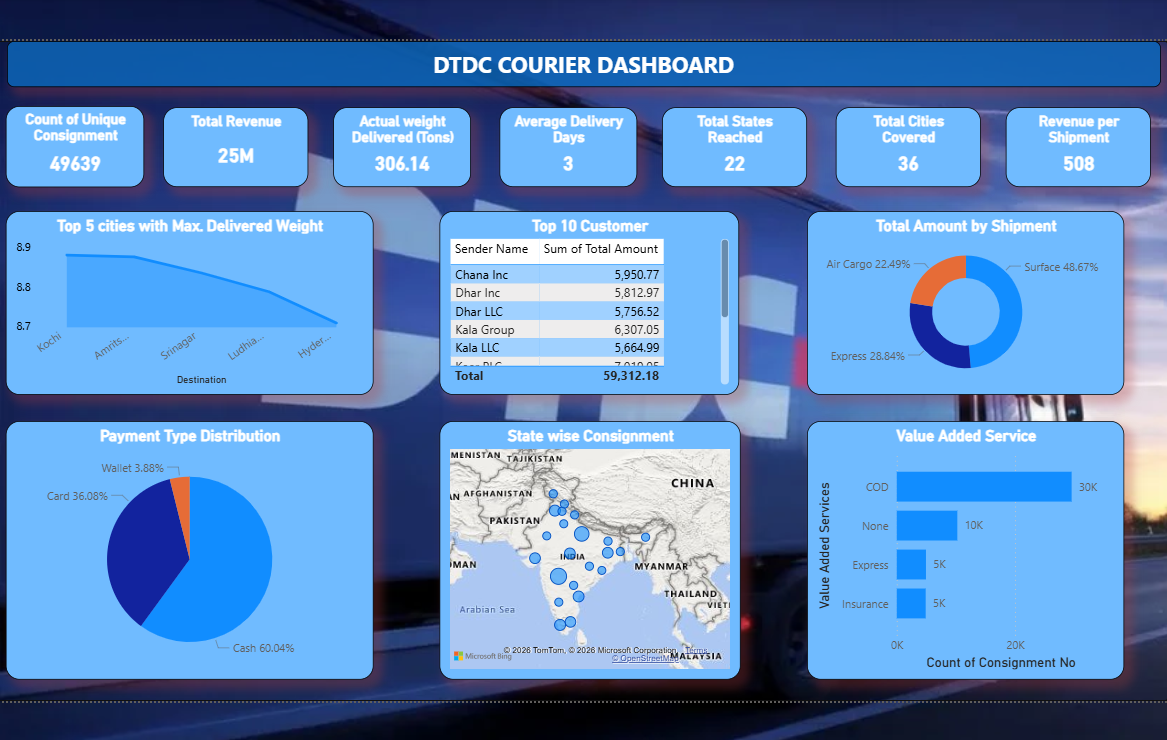

What the dashboard file says about the page in this screenshot:
{"tool":"powerbi","page":{"name":"Page 1","canvas":[1280,720],"ordinal":0},"visuals":[{"type":"textbox","box":[10.9,0,1259.8,50.5],"z":0},{"type":"card","title":"Count of Unique Consignment","fields":{"Values":["CountNonNull(Dataset_Generator_for_DTDC.Consignment No)"]},"box":[9.6,71,151.5,88.7],"z":1000},{"type":"lineChart","title":"Top 5 cities with Max. Delivered Weight","fields":{"Category":["Dataset_Generator_for_DTDC.Destination"],"Y":["Dataset_Generator_for_DTDC.Actual weight in ton"]},"box":[9.6,185.6,401.3,200.6],"z":2000},{"type":"pieChart","title":"Payment Type Distribution","fields":{"Category":["Dataset_Generator_for_DTDC.Mode of Payment"],"Y":["CountNonNull(Dataset_Generator_for_DTDC.Consignment No)"]},"box":[9.6,414.9,401.3,282.5],"z":3000},{"type":"card","title":"Actual weight Delivered (Tons)","fields":{"Values":["Dataset_Generator_for_DTDC.Actual weight in ton"]},"box":[367.2,72.3,150.1,87.4],"z":4000},{"type":"tableEx","title":"Top 10 Customer","fields":{"Values":["Dataset_Generator_for_DTDC.Sender Name","Sum(Dataset_Generator_for_DTDC.Total Amount)"]},"box":[483.2,185.6,327.6,200.6],"z":5000},{"type":"card","title":"Average Delivery Days","fields":{"Values":["Avg(Dataset_Generator_for_DTDC.Delivery Days)"]},"box":[548.7,72.3,150.1,87.4],"z":6000},{"type":"map","title":"State wise Consignment","fields":{"Category":["Dataset_Generator_for_DTDC.Receiver State"],"Size":["Dataset_Generator_for_DTDC.Total Revenue"]},"box":[483.2,414.9,328.9,282.5],"z":7000},{"type":"donutChart","title":"Total Amount by Shipment","fields":{"Y":["Sum(Dataset_Generator_for_DTDC.Total Amount)"],"Category":["Dataset_Generator_for_DTDC.Mode"]},"box":[884.5,185.6,346.7,200.6],"z":8000},{"type":"card","title":"Total States Reached","fields":{"Values":["Count(Dataset_Generator_for_DTDC.Sender State)"]},"box":[726.1,72.3,158.3,87.4],"z":9000},{"type":"card","title":"Total Cities Covered","fields":{"Values":["Count(Dataset_Generator_for_DTDC.Sender City)"]},"box":[915.8,72.3,158.3,87.4],"z":10000},{"type":"card","title":"Revenue per Shipment","fields":{"Values":["Dataset_Generator_for_DTDC.Revenue per Shipment"]},"box":[1101.4,72.9,158.6,87.1],"z":11000},{"type":"card","title":"Total Revenue","fields":{"Values":["Dataset_Generator_for_DTDC.Total Revenue"]},"box":[181.5,72.3,158.3,87.4],"z":12000},{"type":"barChart","title":"Value Added Service","fields":{"Category":["Dataset_Generator_for_DTDC.Value Added Services"],"Y":["CountNonNull(Dataset_Generator_for_DTDC.Consignment No)"]},"box":[884.5,414.9,346.7,282.5],"z":13000}]}

Visuals, with their boxes on the page's 1280x720 design canvas (x1, y1, x2, y2). These are canvas units, not pixel positions in the 1167x740 screenshot, which may show the page scaled, cropped or inside an application window:
textbox: [x1=11, y1=0, x2=1271, y2=50]
"Count of Unique Consignment" card: [x1=10, y1=71, x2=161, y2=160]
"Top 5 cities with Max. Delivered Weight" lineChart: [x1=10, y1=186, x2=411, y2=386]
"Payment Type Distribution" pieChart: [x1=10, y1=415, x2=411, y2=697]
"Actual weight Delivered (Tons)" card: [x1=367, y1=72, x2=517, y2=160]
"Top 10 Customer" tableEx: [x1=483, y1=186, x2=811, y2=386]
"Average Delivery Days" card: [x1=549, y1=72, x2=699, y2=160]
"State wise Consignment" map: [x1=483, y1=415, x2=812, y2=697]
"Total Amount by Shipment" donutChart: [x1=884, y1=186, x2=1231, y2=386]
"Total States Reached" card: [x1=726, y1=72, x2=884, y2=160]
"Total Cities Covered" card: [x1=916, y1=72, x2=1074, y2=160]
"Revenue per Shipment" card: [x1=1101, y1=73, x2=1260, y2=160]
"Total Revenue" card: [x1=182, y1=72, x2=340, y2=160]
"Value Added Service" barChart: [x1=884, y1=415, x2=1231, y2=697]
